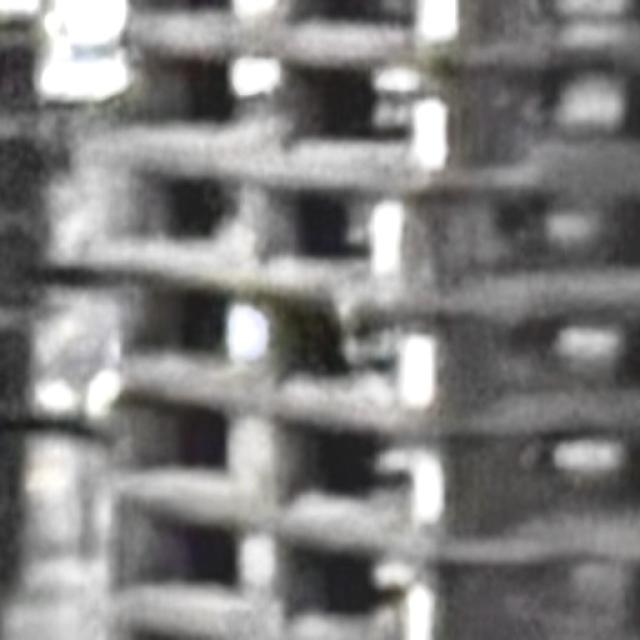igps: (86, 384, 640, 544), (72, 264, 640, 412), (79, 144, 640, 289), (91, 36, 639, 163), (82, 482, 415, 640)
